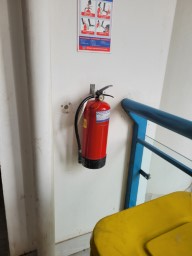fire_extinguisher: (63, 104, 127, 156)
